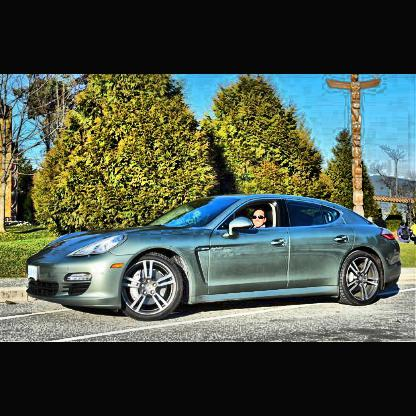Porsche Panamera Sedan 2012: (27, 194, 406, 323)
